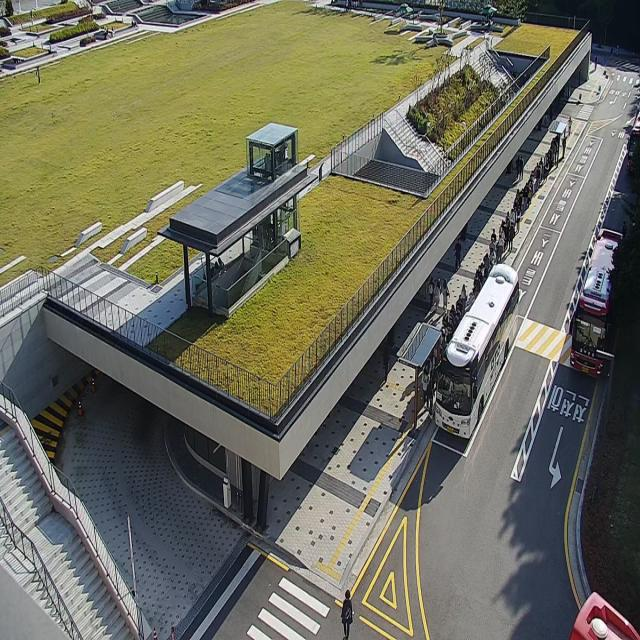queue: (415, 126, 561, 430)
